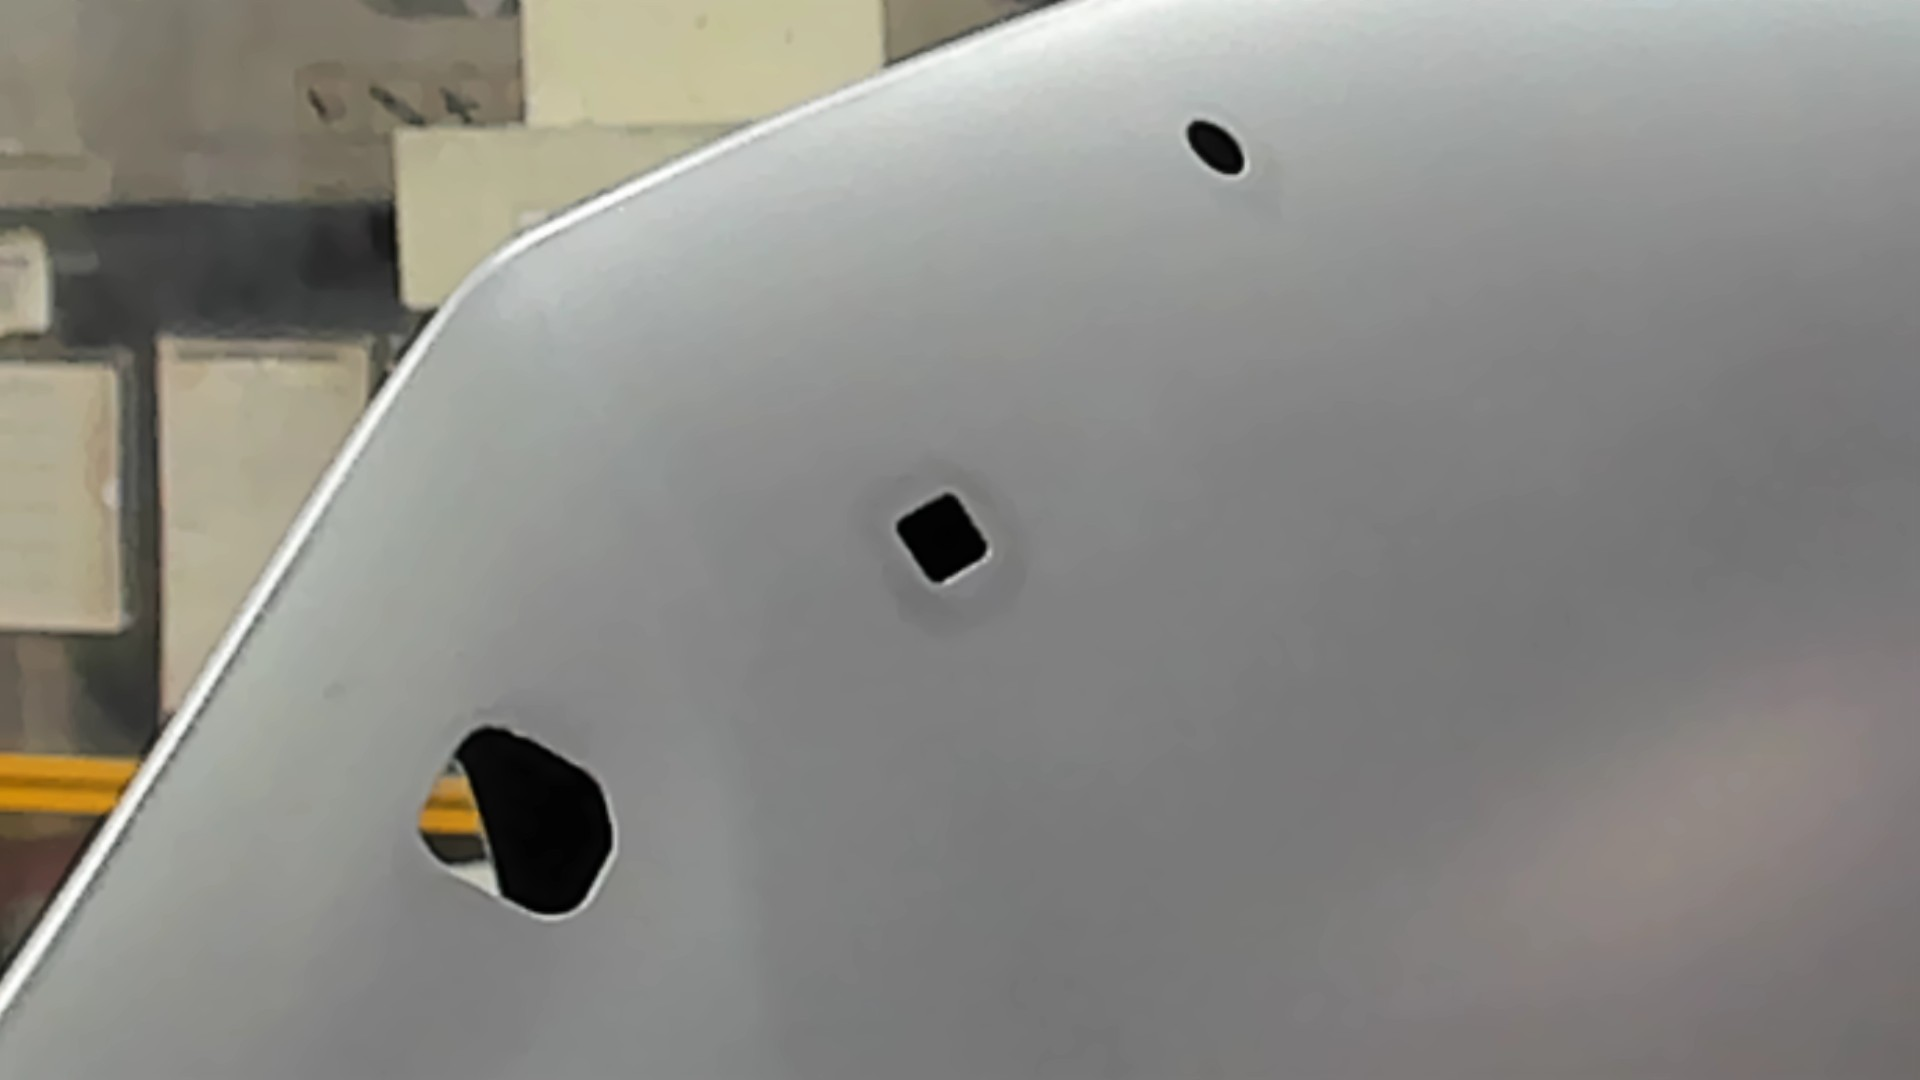capo: (1001, 185, 1920, 1080)
chico: (1178, 113, 1251, 181)
grande: (410, 719, 624, 928)
mediano: (884, 481, 1001, 597)
